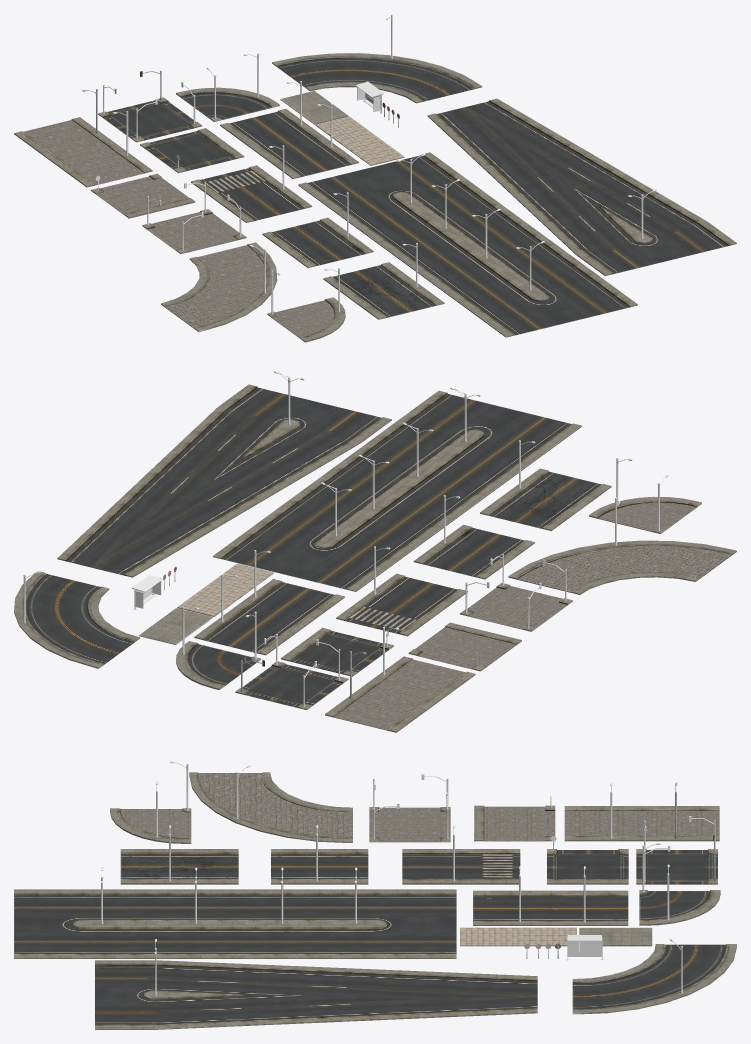
Rendered from scene.web.gltf.
3 renders of one model, top to bottom at view 1: azimuth 30°, elevation 25°; view 2: azimuth 150°, elevation 25°; view 3: azimuth 270°, elevation 25°, orthographic. The views are drawn at different scales.
Visible parts, largest first — view 1: _gltfNode_72_6, _gltfNode_86_4, _gltfNode_82_46, _gltfNode_24_56, _gltfNode_4_60, _gltfNode_66_68, _gltfNode_56_50, _gltfNode_50_62, _gltfNode_52_48, _gltfNode_44_66, _gltfNode_10_54, _gltfNode_14_52 (+5 smaller); view 2: _gltfNode_72_6, _gltfNode_86_4, _gltfNode_24_56, _gltfNode_82_46, _gltfNode_4_60, _gltfNode_66_68, _gltfNode_56_50, _gltfNode_50_62, _gltfNode_52_48, _gltfNode_10_54, _gltfNode_34_2, _gltfNode_14_52 (+5 smaller); view 3: _gltfNode_72_6, _gltfNode_86_4, _gltfNode_82_46, _gltfNode_24_56, _gltfNode_66_68, _gltfNode_4_60, _gltfNode_56_50, _gltfNode_50_62, _gltfNode_52_48, _gltfNode_10_54, _gltfNode_14_52, _gltfNode_44_66 (+6 smaller).
Part boxes in pixels (x1=…): _gltfNode_72_6: x1=298, y1=152, x2=637, y2=337; _gltfNode_86_4: x1=427, y1=98, x2=736, y2=275; _gltfNode_82_46: x1=272, y1=53, x2=482, y2=103; _gltfNode_24_56: x1=161, y1=242, x2=277, y2=332; _gltfNode_4_60: x1=14, y1=117, x2=152, y2=187; _gltfNode_66_68: x1=220, y1=109, x2=358, y2=178; _gltfNode_56_50: x1=323, y1=262, x2=444, y2=319; _gltfNode_50_62: x1=191, y1=165, x2=312, y2=222; _gltfNode_52_48: x1=262, y1=217, x2=373, y2=267; _gltfNode_44_66: x1=140, y1=128, x2=244, y2=173; _gltfNode_10_54: x1=91, y1=173, x2=195, y2=218; _gltfNode_14_52: x1=142, y1=209, x2=246, y2=254; _gltfNode_72_6: x1=213, y1=390, x2=581, y2=591; _gltfNode_86_4: x1=57, y1=384, x2=391, y2=577; _gltfNode_24_56: x1=508, y1=540, x2=736, y2=594; _gltfNode_82_46: x1=14, y1=571, x2=139, y2=668; _gltfNode_4_60: x1=325, y1=656, x2=475, y2=732; _gltfNode_66_68: x1=194, y1=579, x2=344, y2=655; _gltfNode_56_50: x1=480, y1=468, x2=611, y2=530; _gltfNode_50_62: x1=336, y1=573, x2=467, y2=636; _gltfNode_52_48: x1=413, y1=524, x2=534, y2=579; _gltfNode_10_54: x1=408, y1=622, x2=521, y2=671; _gltfNode_34_2: x1=235, y1=661, x2=348, y2=709; _gltfNode_14_52: x1=460, y1=583, x2=572, y2=631; _gltfNode_72_6: x1=14, y1=889, x2=456, y2=958; _gltfNode_86_4: x1=95, y1=960, x2=537, y2=1029; _gltfNode_82_46: x1=572, y1=944, x2=736, y2=1014; _gltfNode_24_56: x1=189, y1=772, x2=352, y2=842; _gltfNode_66_68: x1=473, y1=890, x2=628, y2=925; _gltfNode_4_60: x1=564, y1=806, x2=719, y2=841; _gltfNode_56_50: x1=120, y1=849, x2=238, y2=884; _gltfNode_50_62: x1=402, y1=849, x2=520, y2=884; _gltfNode_52_48: x1=271, y1=849, x2=368, y2=884; _gltfNode_10_54: x1=474, y1=805, x2=555, y2=841; _gltfNode_14_52: x1=369, y1=807, x2=450, y2=842; _gltfNode_44_66: x1=547, y1=849, x2=628, y2=884.
Bounding box in the file's own units: 87.68 × 7.96 × 104.
2 materials, 1 textured.
